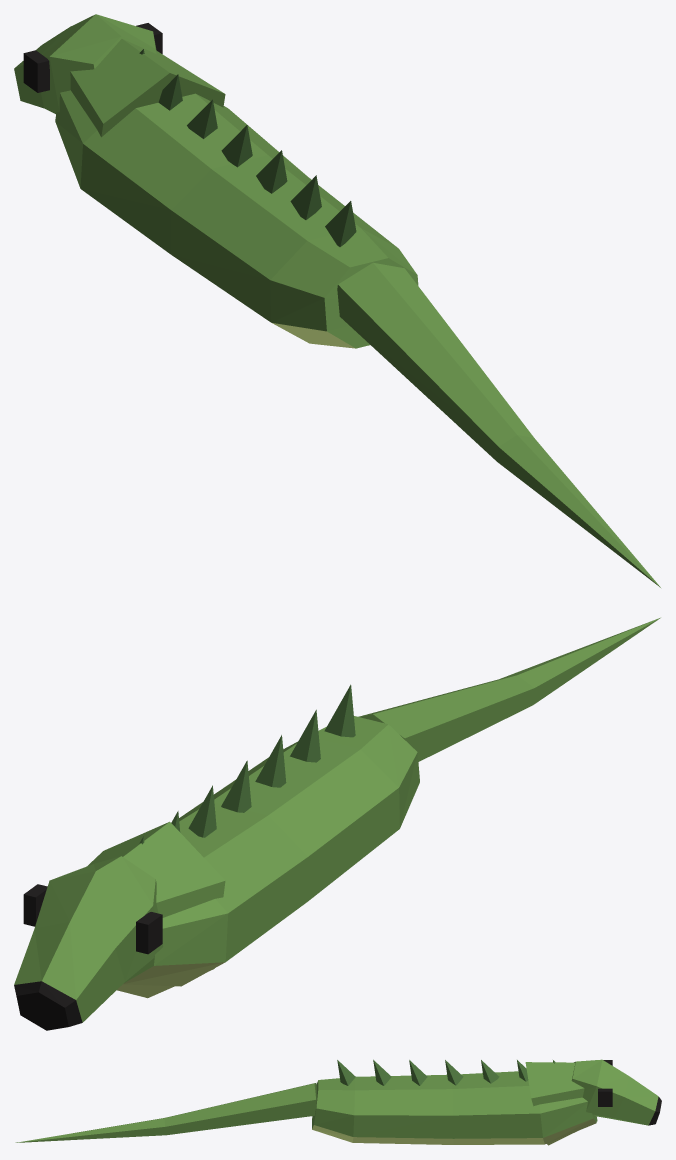
Rendered from animal_iguana.obj.
3 renders of one model, top to bottom at view 1: azimuth 30°, elevation 25°; view 2: azimuth 150°, elevation 25°; view 3: azimuth 270°, elevation 25°, orthographic. The views are drawn at different scales.
Parts seen in each view (by area): view 1: animal_iguana; view 2: animal_iguana; view 3: animal_iguana.
Part boxes in pixels (<box>): animal_iguana: <box>14,14,660,587</box>; animal_iguana: <box>14,617,660,1030</box>; animal_iguana: <box>15,1059,661,1145</box>.
Bounding box in the file's own units: 0.1892 × 0.2062 × 1.41.
